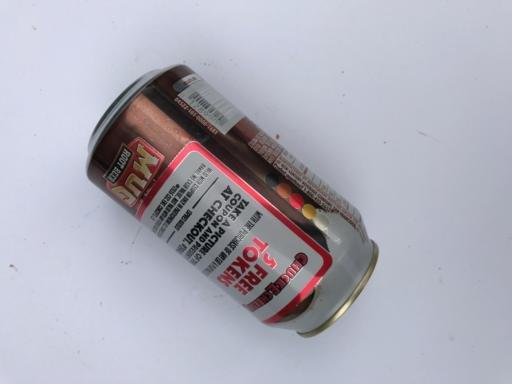kaleng: (86, 64, 380, 338)
